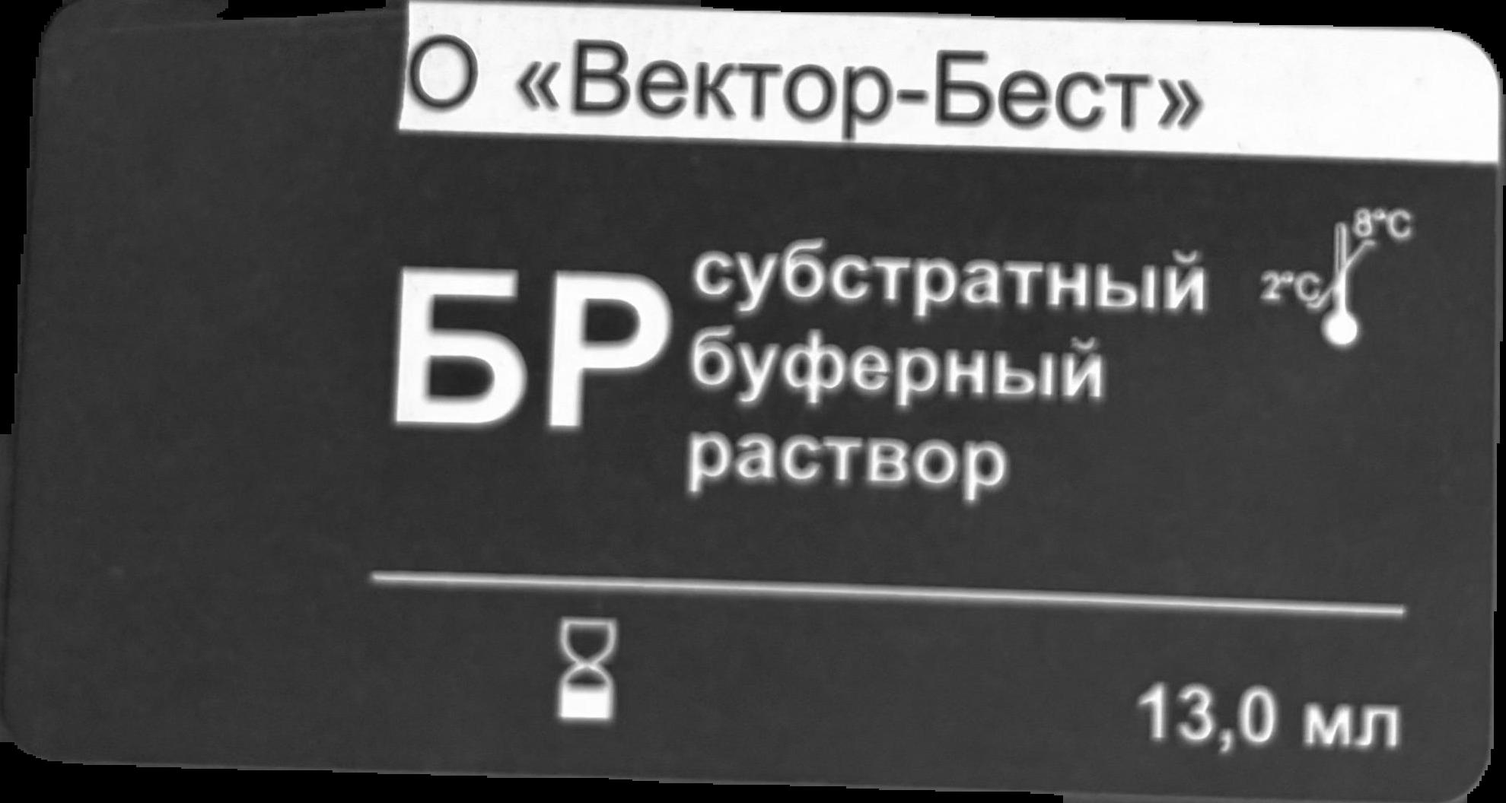something: (1259, 201, 1419, 349), (556, 616, 617, 725)
text: (377, 239, 1225, 503), (405, 31, 1233, 143), (1128, 671, 1408, 764)
